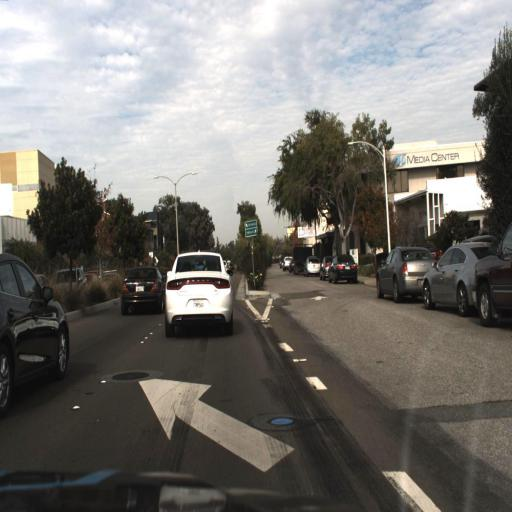car: (0, 248, 69, 416), (159, 252, 234, 338), (420, 239, 481, 312), (373, 243, 433, 300), (119, 262, 164, 313), (49, 264, 89, 304), (326, 252, 360, 286), (303, 256, 324, 276)
truck: (290, 240, 315, 272)
